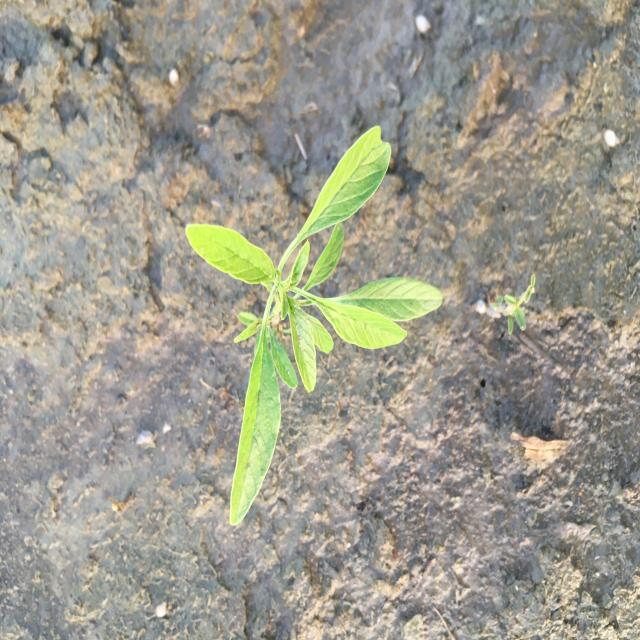Waterhemp: (183, 124, 444, 528)
